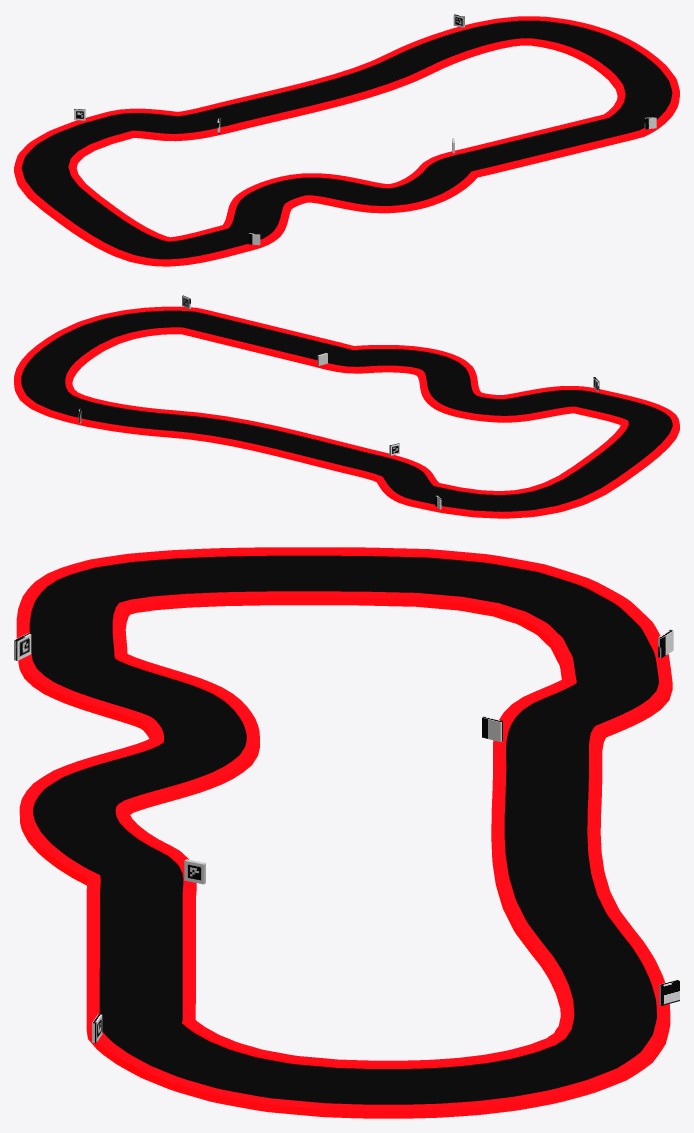
Rendered from track_superV5.dae.
3 views of the same model, one above another, from view 1: azimuth 30°, elevation 25°; view 2: azimuth 150°, elevation 25°; view 3: azimuth 270°, elevation 25° (orthographic). The views are drawn at different scales.
Parts seen in each view (by area): view 1: Cube; view 2: Cube; view 3: Cube.
Part boxes in pixels (x1,y1,x2,y2): Cube: (14, 16, 679, 266); Cube: (14, 306, 679, 518); Cube: (16, 547, 672, 1118).
Size of the model in its own units: 61.03 by 30.48 by 1.43.
Materials: 9 (6 with a texture image).
